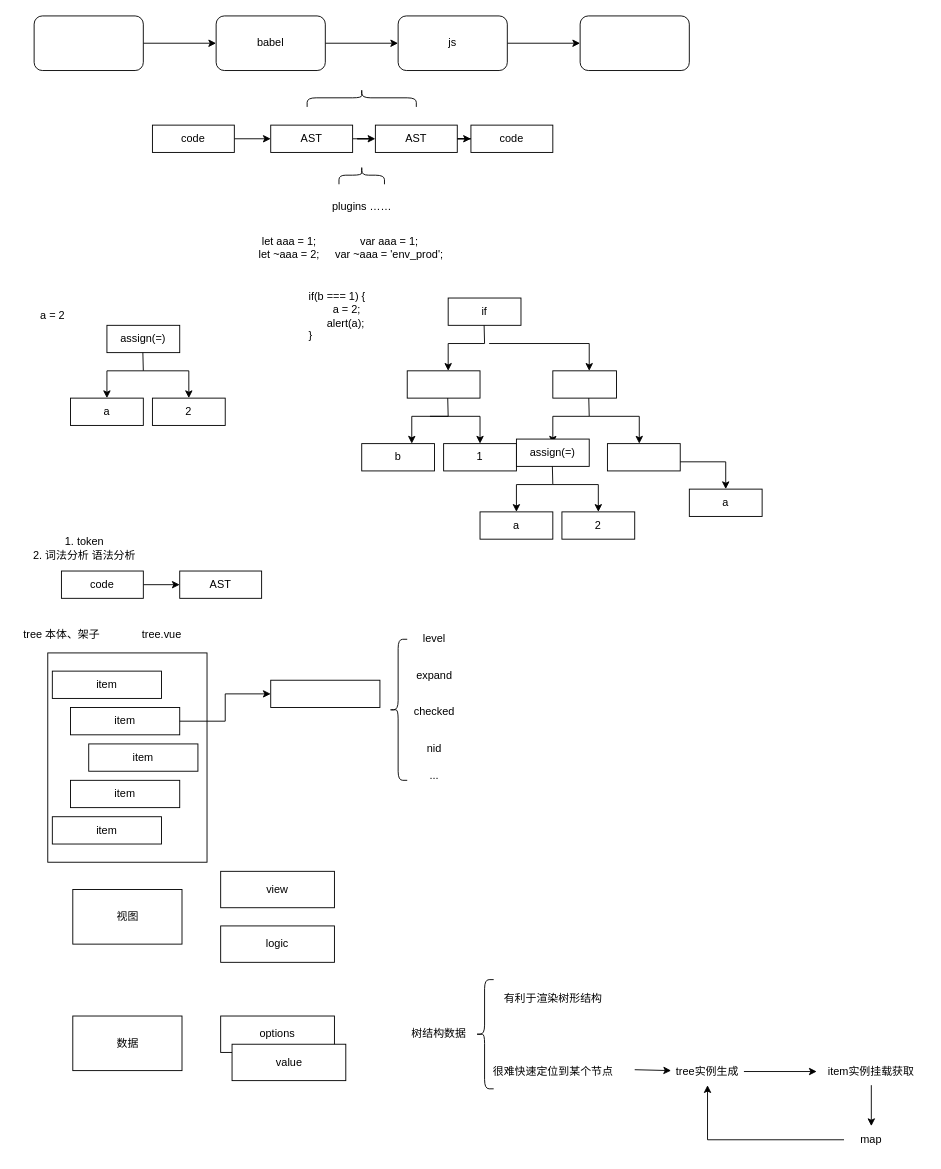
The diagram is 941 pixels wide and 1169 high, and some of its shapes have lost their labels. The shapes that lost their labels are listed below. From the top down, each one's centre as x and y in pixels, then its label:
At pixel 88 43: "Es6".
At pixel 634 43: "browser".
At pixel 443 384: "equal(===)".
At pixel 584 384: "body".
At pixel 643 457: "alert".
At pixel 325 693: "item.vue".
